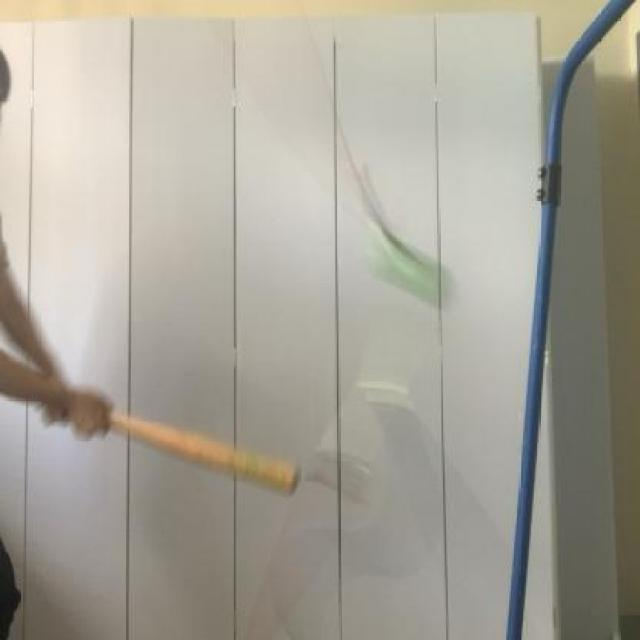baseball: (353, 216, 469, 322)
